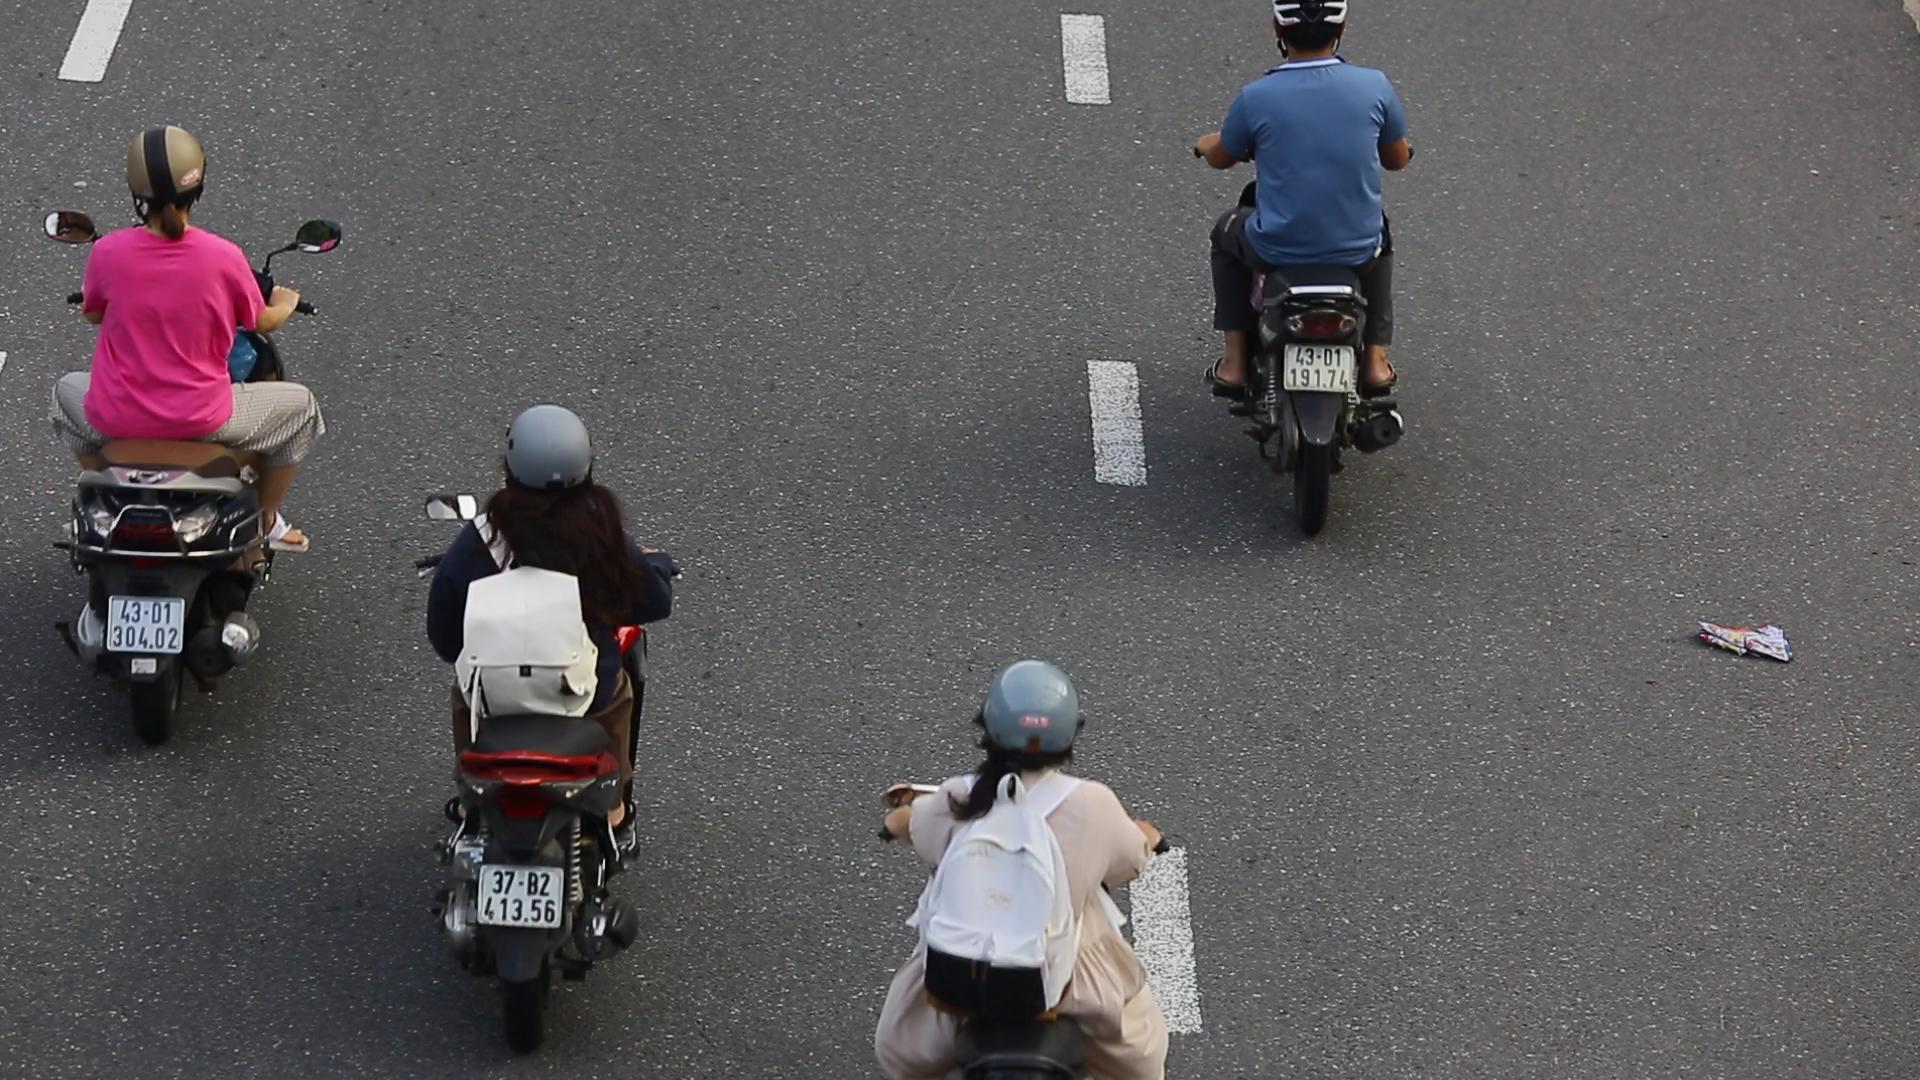motobike: (396, 394, 687, 1067), (42, 120, 347, 758), (1184, 0, 1428, 538)
